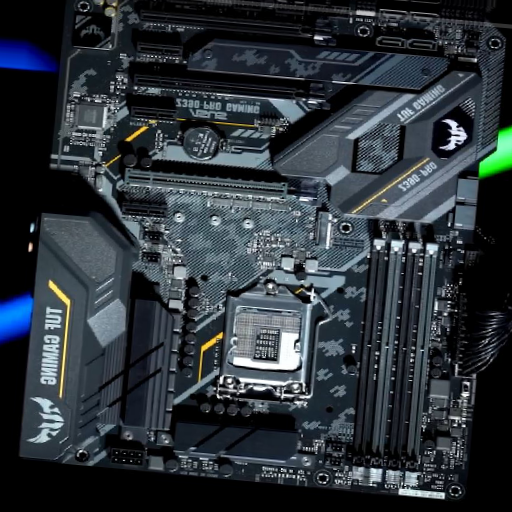CPU: (220, 273, 309, 401)
GPU: (132, 72, 334, 111), (138, 8, 337, 47), (123, 168, 320, 206)
MOTHERBOARD: (44, 1, 502, 498)
RAM: (350, 237, 441, 468)
SSD: (311, 211, 333, 250)
